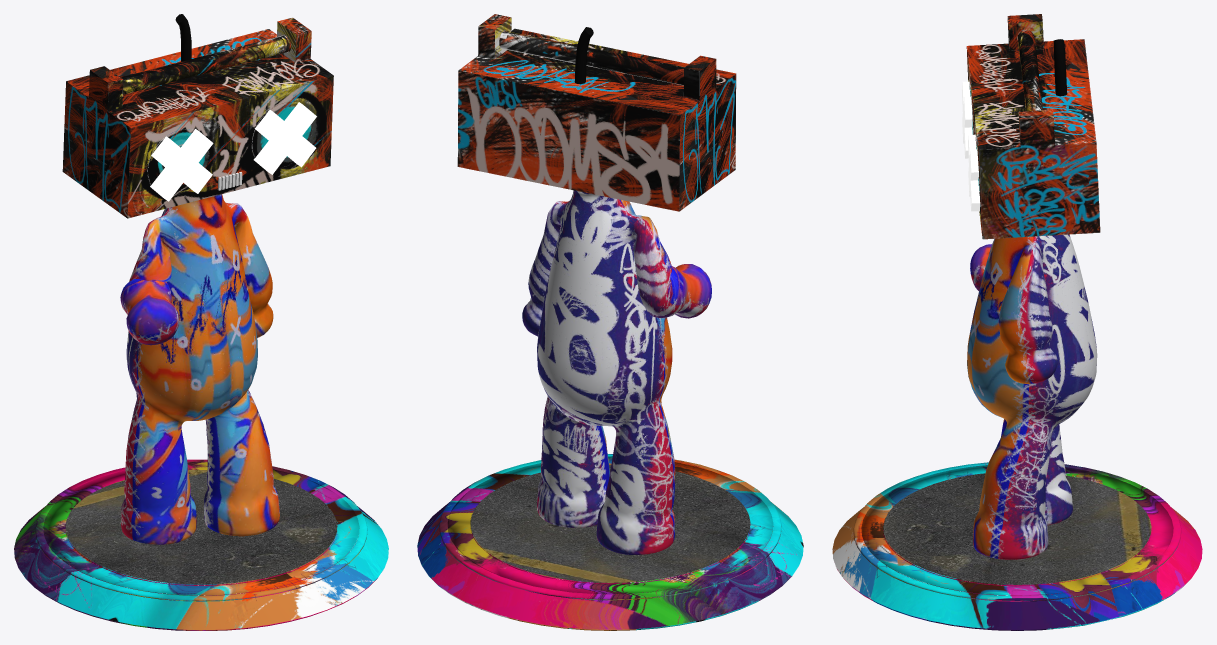
The picture shows the model from 3 angles, left to right: view 1: azimuth 30°, elevation 25°; view 2: azimuth 150°, elevation 25°; view 3: azimuth 270°, elevation 25°; orthographic projection. The views are drawn at different scales.
Visible parts, largest first — view 1: BBody; view 2: BBody; view 3: BBody.
Part boxes in pixels (x1,y1,x2,y2): BBody: [14, 14, 388, 630]; BBody: [417, 14, 803, 630]; BBody: [832, 14, 1202, 630].
Size of the model in its own units: 1.45 by 2.22 by 1.45.
7 materials, 4 textured.
